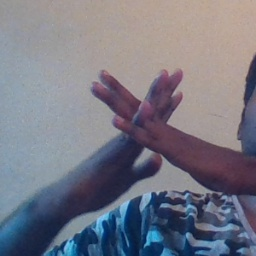W: (83, 57, 196, 191)
